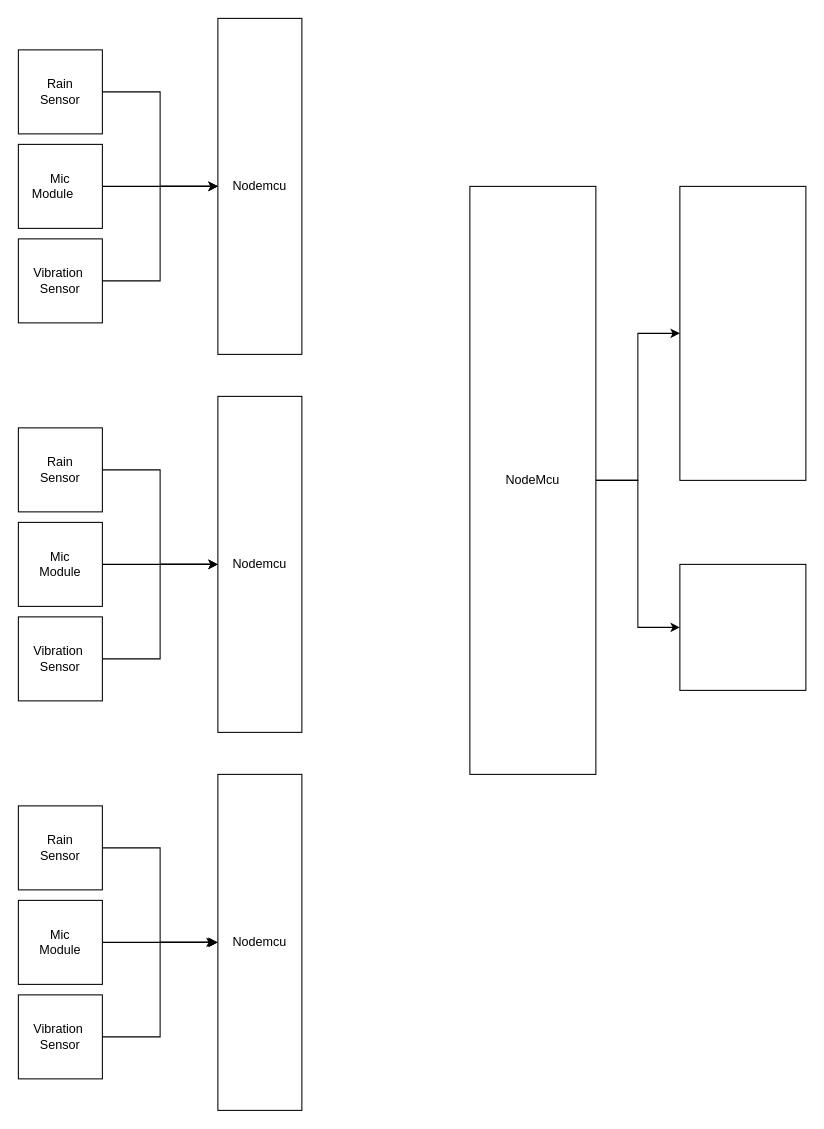
This 824x1129 diagram has some shape labels left out. The box of each missing label's shape, as (x1, y1, x2, y2) in pixels:
16X2 LCD Display: (679, 185, 806, 480)
Blynk IOT: (679, 563, 806, 690)
